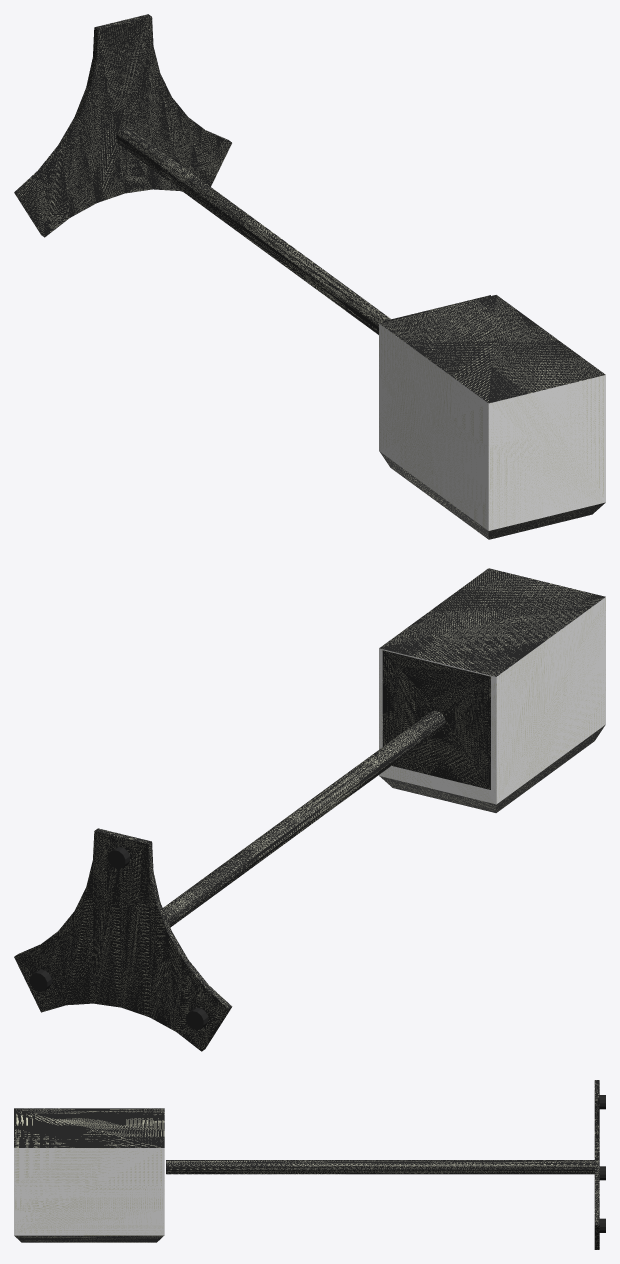
3 views of the same model, one above another, from view 1: azimuth 30°, elevation 25°; view 2: azimuth 150°, elevation 25°; view 3: azimuth 270°, elevation 25° (orthographic). The views are drawn at different scales.
Parts seen in each view (by area): view 1: speaker on a stand; view 2: speaker on a stand; view 3: speaker on a stand.
Part boxes in pixels (x1,y1,x2,y2): speaker on a stand: (14, 14, 605, 539); speaker on a stand: (14, 568, 605, 1051); speaker on a stand: (14, 1080, 605, 1249).
Bounding box in the file's own units: 11.89 × 10.5 × 41.3.
